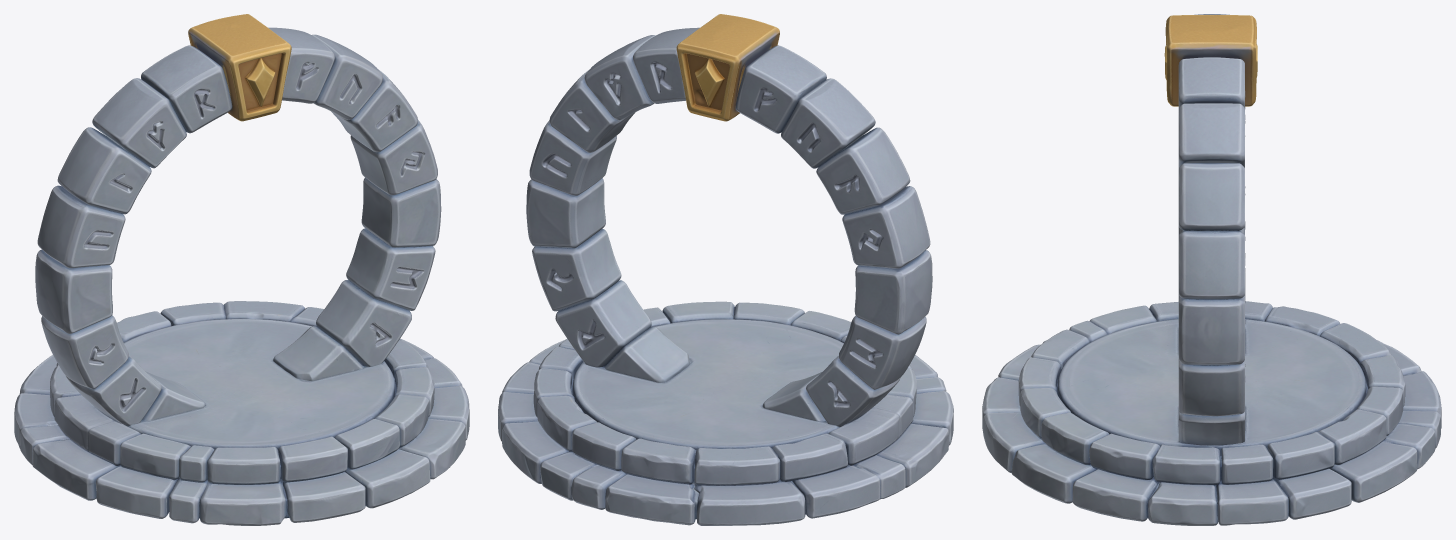
Rendered from portal_ring_high.glb.
The picture shows the model from 3 angles, left to right: view 1: azimuth 30°, elevation 25°; view 2: azimuth 150°, elevation 25°; view 3: azimuth 270°, elevation 25°; orthographic projection.
Size of the model in its own units: 1.9 by 1.84 by 1.9.
Materials: 1 (1 with a texture image).
